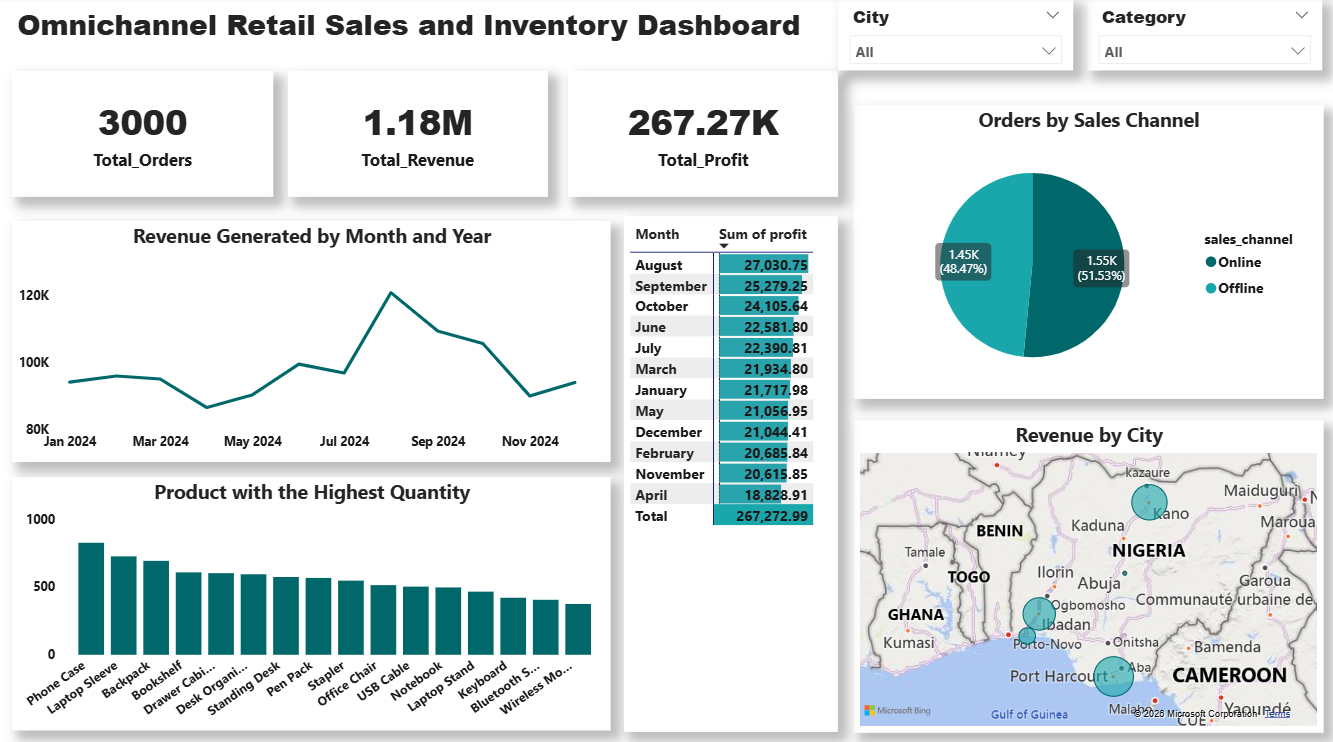

This screenshot's page, from the dashboard's own definition file:
{"tool":"powerbi","page":{"name":"Page 1","canvas":[1280,720],"ordinal":0},"visuals":[{"type":"lineChart","title":"Revenue Generated by Month and Year","fields":{"Y":["cleaned_retail_data.Total_Revenue"],"Category":["cleaned_retail_data.order_date.Variation.Date Hierarchy.Year","cleaned_retail_data.order_date.Variation.Date Hierarchy.Quarter","cleaned_retail_data.order_date.Variation.Date Hierarchy.Month"]},"box":[11.3,215.4,571.6,229.9],"z":0},{"type":"clusteredColumnChart","title":"Product with the Highest Quantity ","fields":{"Y":["Sum(cleaned_retail_data.quantity)"],"Category":["cleaned_retail_data.product"]},"box":[11.3,459.9,571.6,241.3],"z":1000},{"type":"map","title":"Revenue by City","fields":{"Category":["cleaned_retail_data.city"],"Size":["cleaned_retail_data.Total_Revenue"]},"box":[814.5,404.8,448.5,297.9],"z":2001},{"type":"slicer","fields":{"Values":["cleaned_retail_data.category"]},"box":[938.2,2.9,325.2,68.8],"z":2002},{"type":"pieChart","title":"Orders by Sales Channel","fields":{"Category":["cleaned_retail_data.sales_channel"],"Y":["CountNonNull(cleaned_retail_data.order_id)"]},"box":[814.5,105.2,448.5,280.1],"z":2003},{"type":"card","fields":{"Values":["cleaned_retail_data.Total_Orders"]},"box":[11.3,71.2,249.4,119.8],"z":2004},{"type":"card","fields":{"Values":["cleaned_retail_data.Total_Revenue"]},"box":[275.3,71.2,247.7,119.8],"z":2005},{"type":"card","fields":{"Values":["cleaned_retail_data.Total_Profit"]},"box":[542.4,71.2,257.5,119.8],"z":2006},{"type":"pivotTable","fields":{"Rows":["cleaned_retail_data.order_date.Variation.Date Hierarchy.Month","cleaned_retail_data.order_date.Variation.Date Hierarchy.Day"],"Values":["Sum(cleaned_retail_data.profit)"]},"box":[595.9,210.5,204,492.2],"z":2007},{"type":"textbox","box":[11.3,3.2,770.8,51.8],"z":2008}]}

Visuals, with their boxes in screenshot pixels (x1, y1, x2, y2), scaled from the page's 1280x720 canvas onto the 1333x742 screenshot:
"Revenue Generated by Month and Year" lineChart: 12 222 607 459
"Product with the Highest Quantity " clusteredColumnChart: 12 474 607 723
"Revenue by City" map: 848 417 1315 724
slicer - cleaned_retail_data.category: 977 3 1316 74
"Orders by Sales Channel" pieChart: 848 108 1315 397
card - cleaned_retail_data.Total_Orders: 12 73 271 197
card - cleaned_retail_data.Total_Revenue: 287 73 545 197
card - cleaned_retail_data.Total_Profit: 565 73 833 197
pivotTable - cleaned_retail_data.order_date.Variation.Date Hierarchy.Month x cleaned_retail_data.order_date.Variation.Date Hierarchy.Day: 621 217 833 724
textbox: 12 3 814 57
